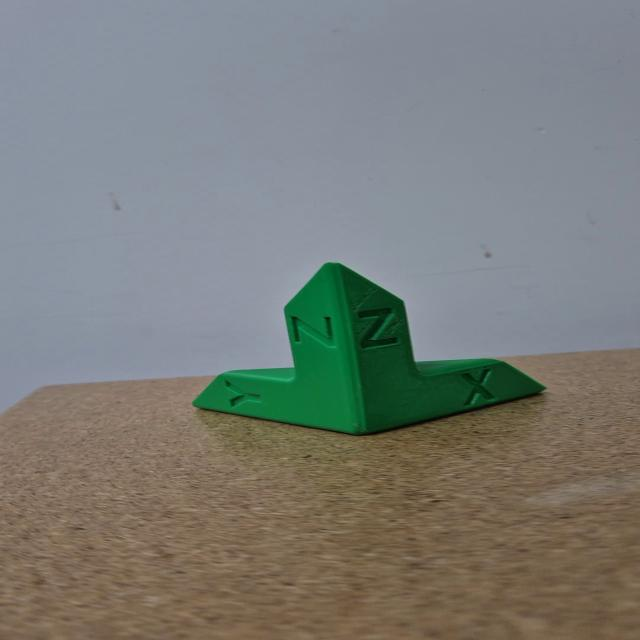objects: (187, 258, 555, 440)
